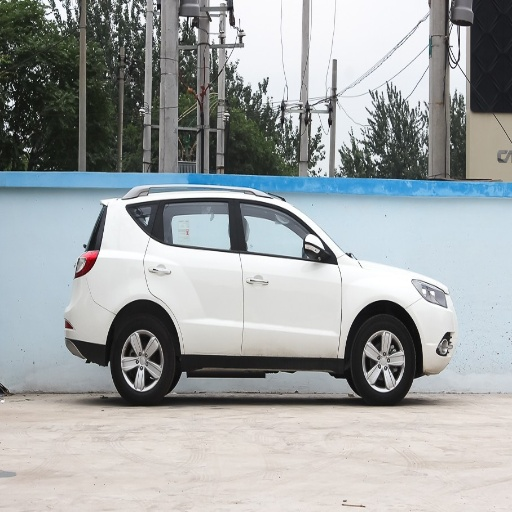back_right_door: (144, 196, 241, 351)
front_right_door: (239, 197, 342, 352)
